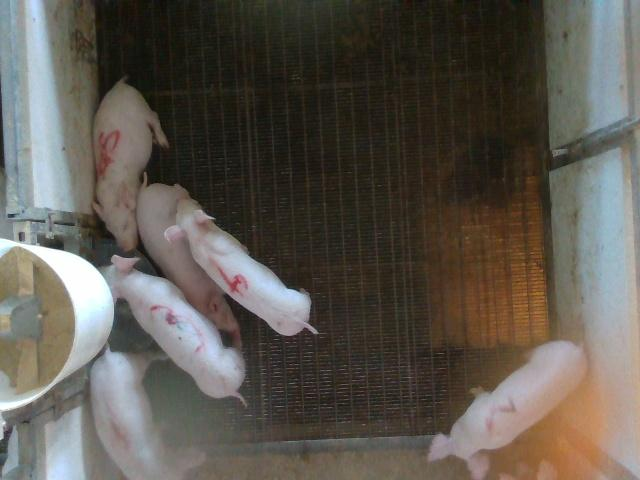pig-1: (90, 348, 164, 479)
pig-2: (428, 341, 586, 478)
pig-3: (100, 255, 245, 399)
pig-4: (165, 200, 318, 336)
pig-5: (94, 78, 169, 252)
